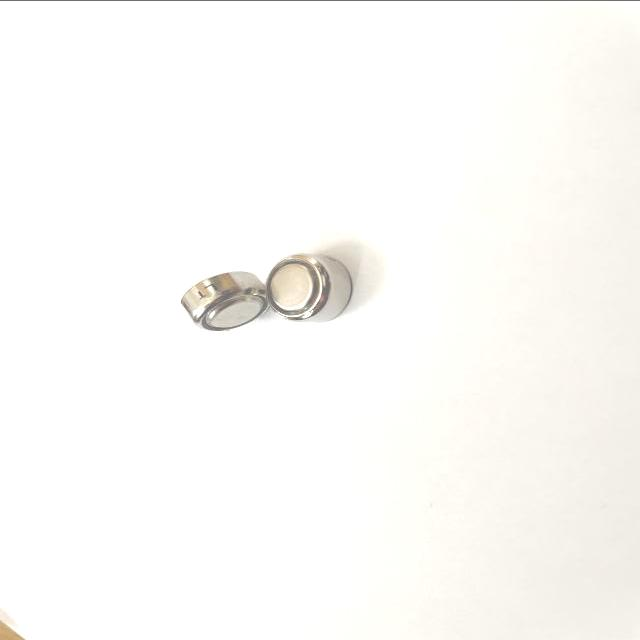COIN: (269, 252, 352, 322), (178, 270, 271, 332)
